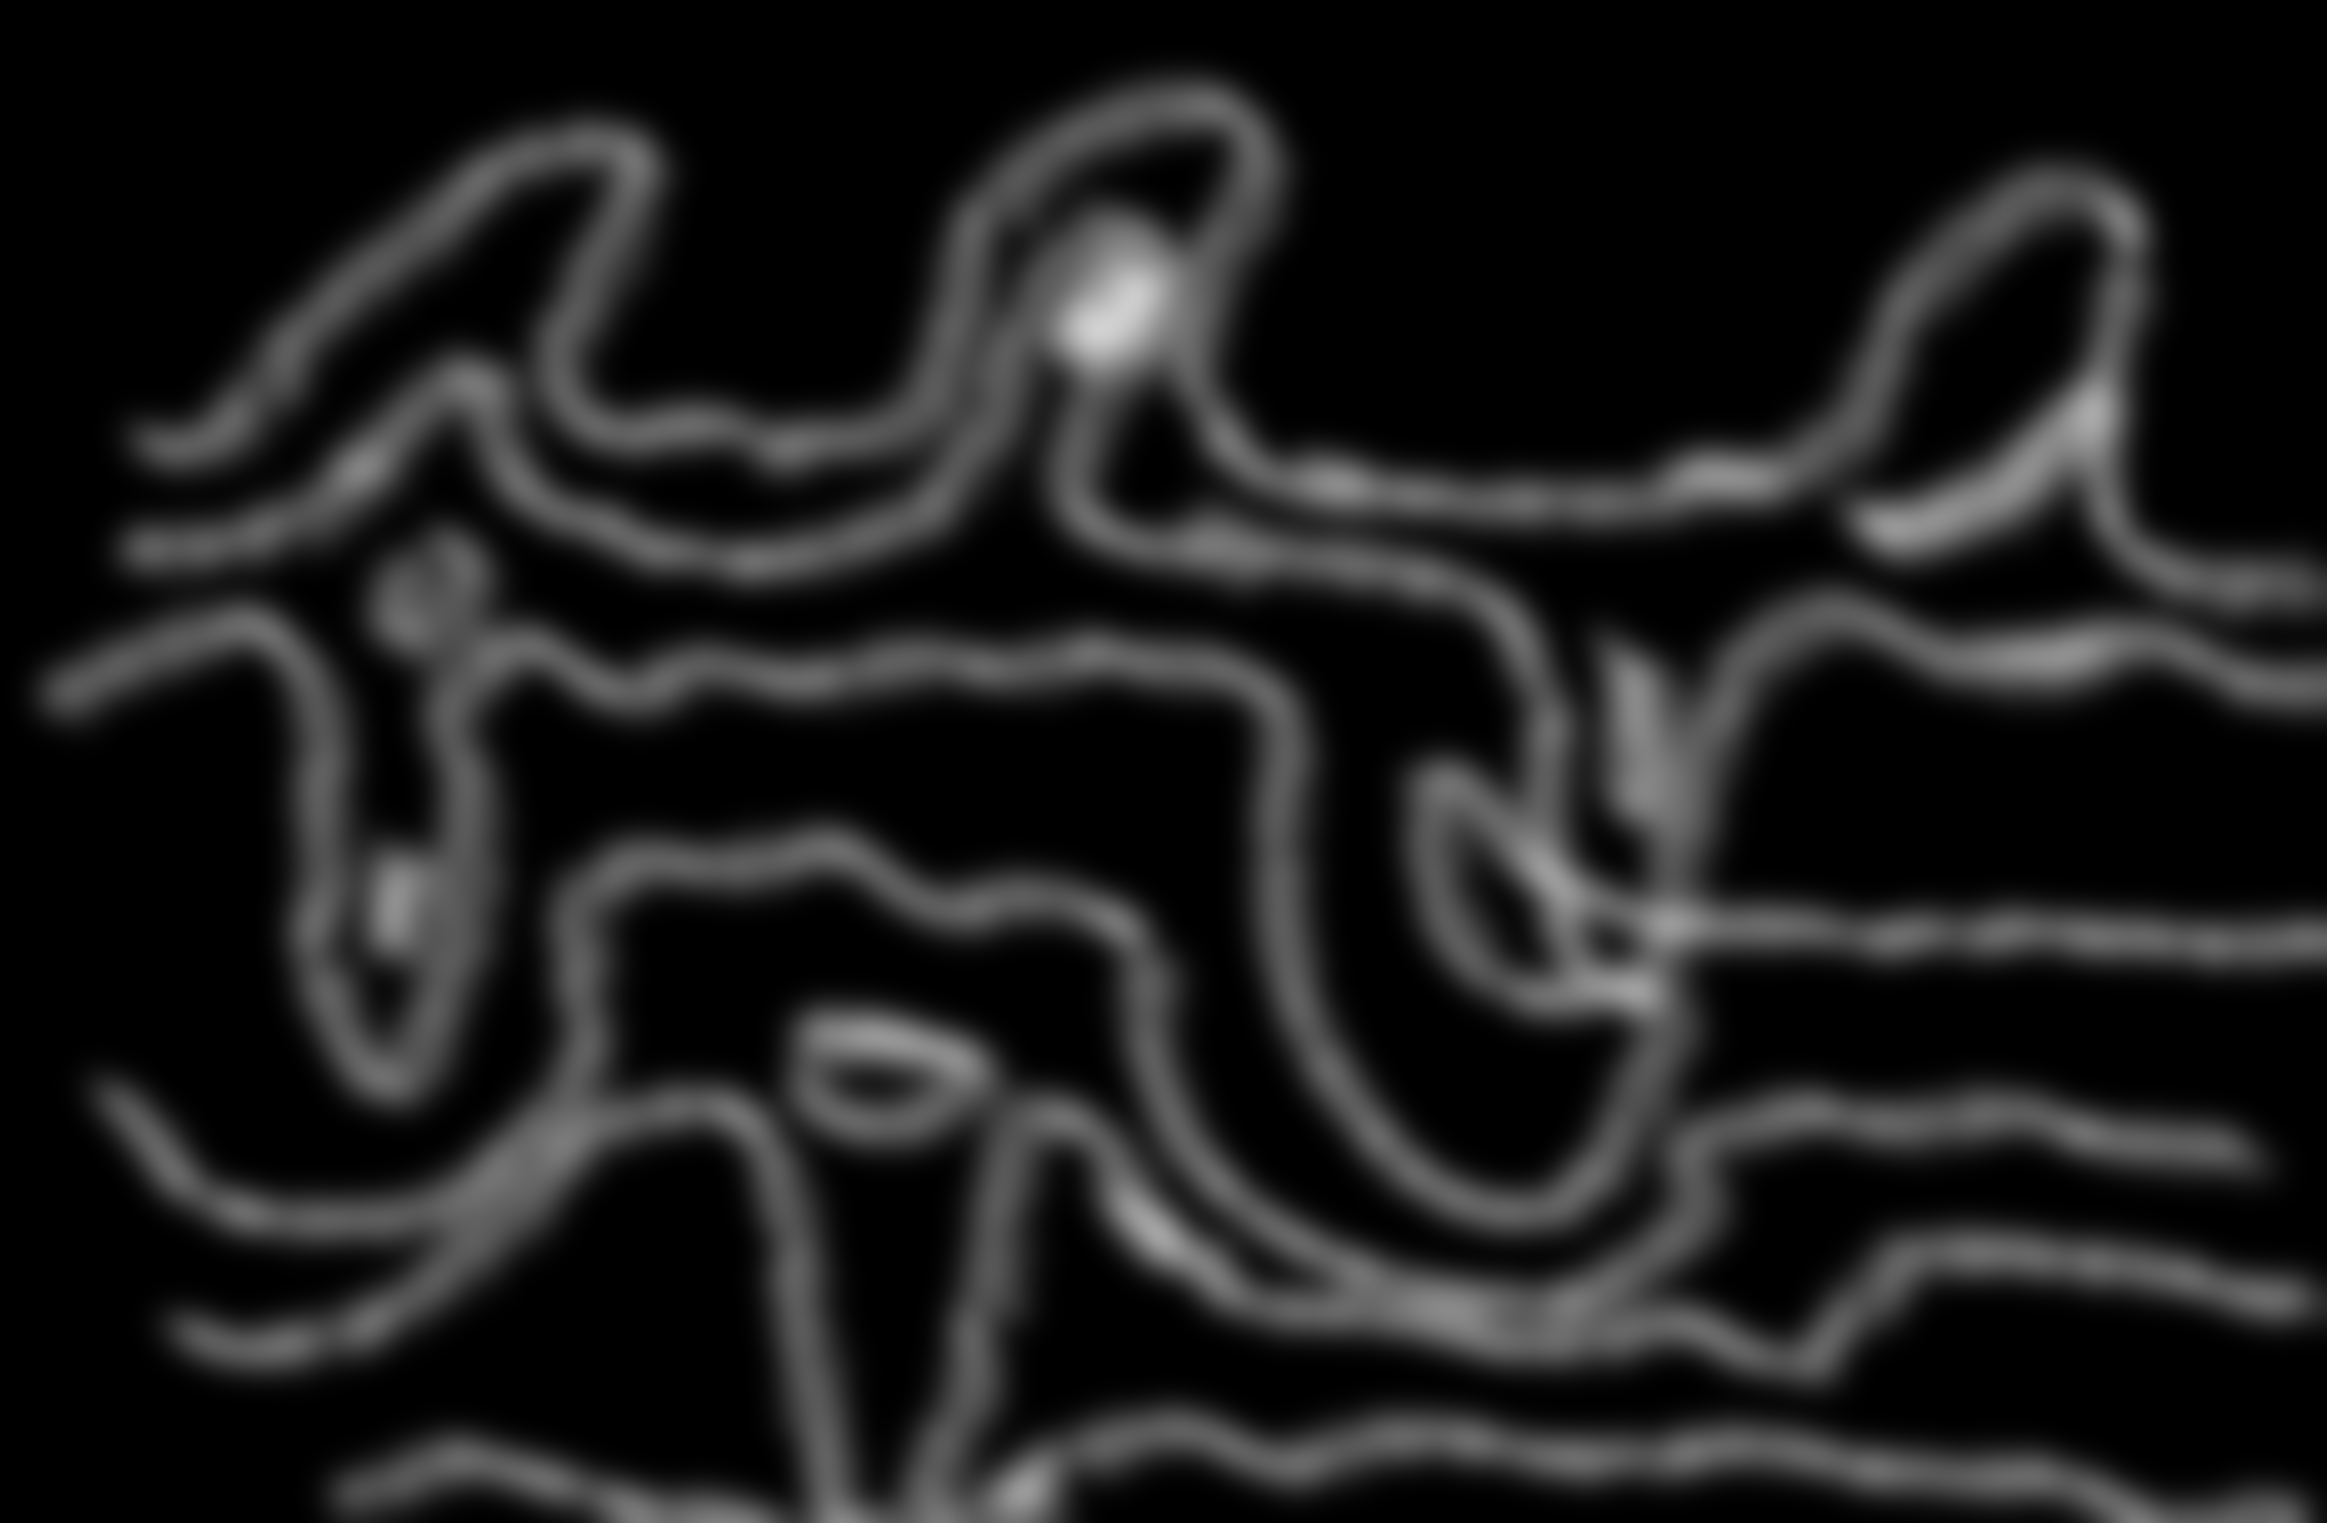turbulence: (76, 90, 2327, 1509)
